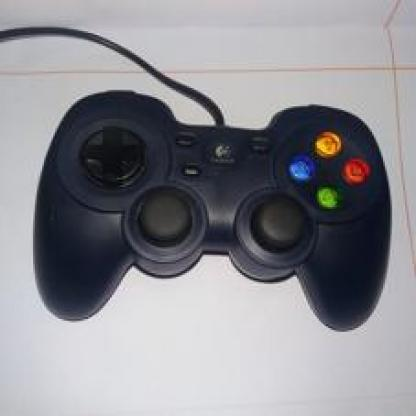gamepad: (33, 81, 403, 366)
